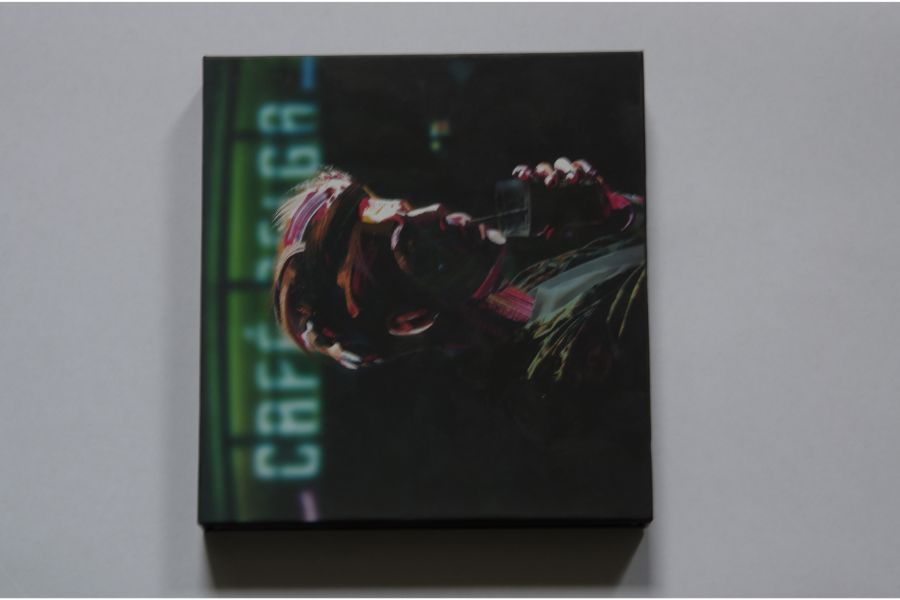album: (194, 47, 656, 525)
